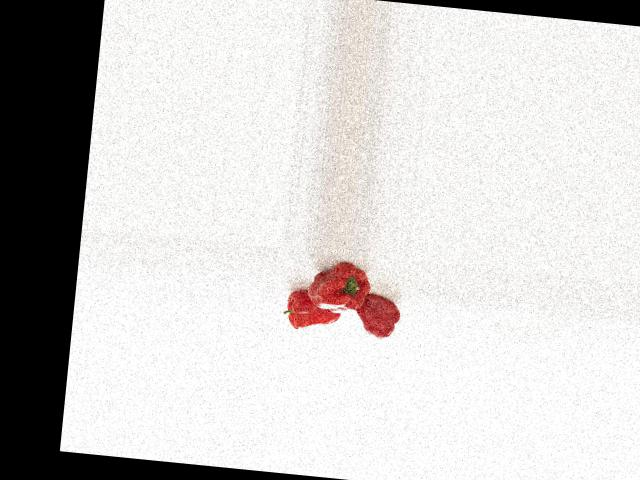bell_pepper: (356, 291, 404, 340)
